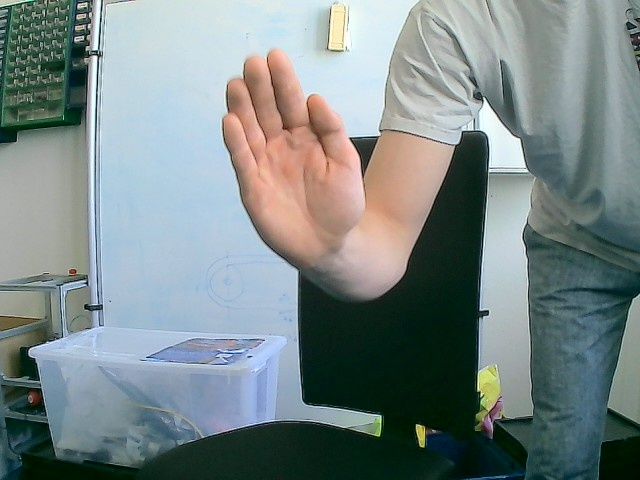stop: (220, 47, 367, 271)
